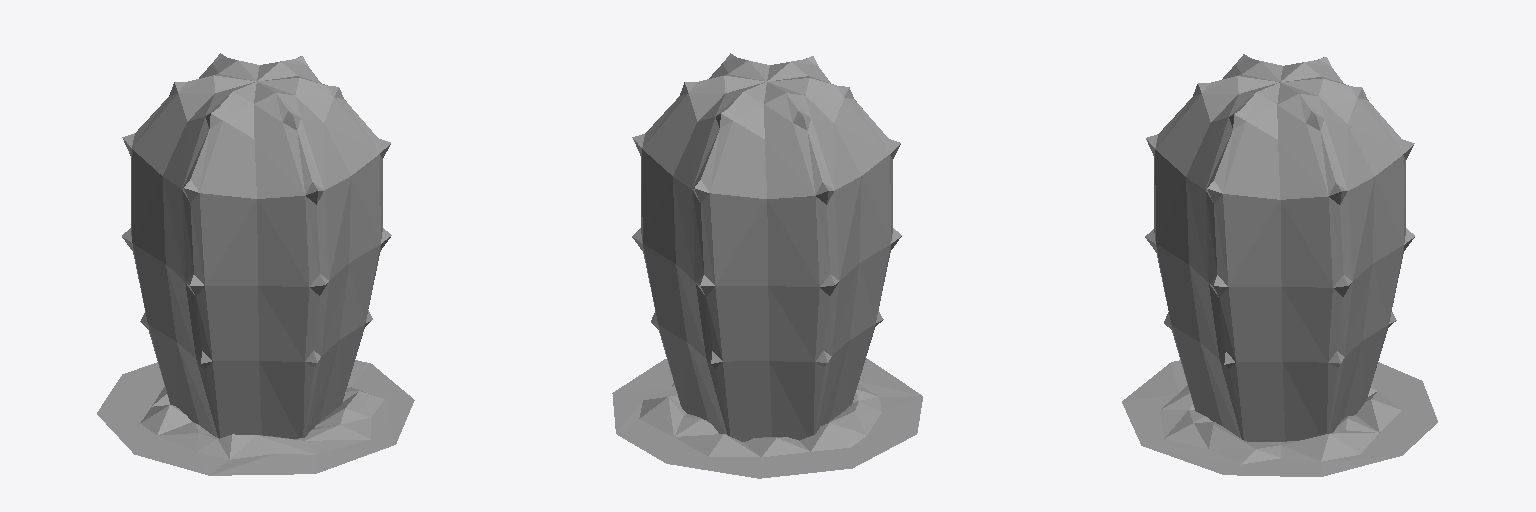
The model's file is cactus.obj.
The picture shows the model from 3 angles: view 1: azimuth 30°, elevation 25°; view 2: azimuth 150°, elevation 25°; view 3: azimuth 270°, elevation 25°; orthographic projection.
Parts seen in each view (by area): view 1: cactus_mesh, ground_mesh; view 2: cactus_mesh, ground_mesh; view 3: cactus_mesh, ground_mesh.
Part boxes in pixels (left/top/right/bottom): cactus_mesh: left=122, top=53, right=391, bottom=438; ground_mesh: left=97, top=360, right=414, bottom=475; cactus_mesh: left=632, top=53, right=901, bottom=441; ground_mesh: left=612, top=358, right=922, bottom=478; cactus_mesh: left=1145, top=54, right=1414, bottom=441; ground_mesh: left=1122, top=360, right=1437, bottom=476.
Bounding box in the file's own units: 1.44 × 1.82 × 1.46.